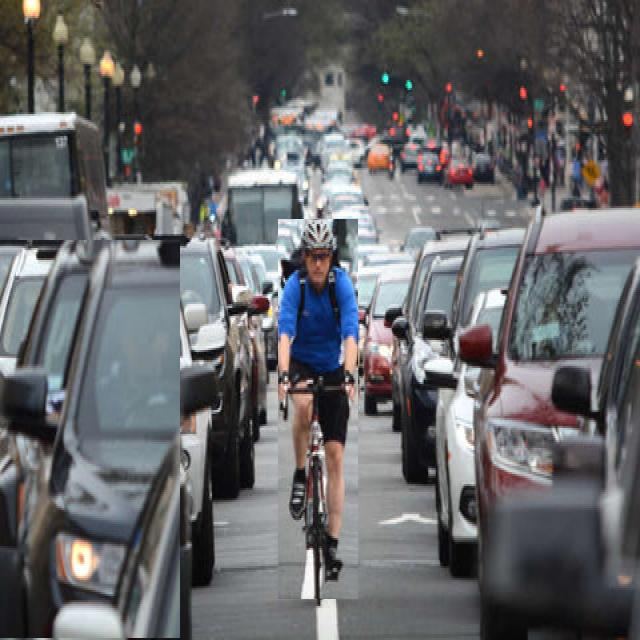bicycle: (279, 220, 358, 599)
car: (0, 240, 180, 638), (460, 210, 640, 550)
